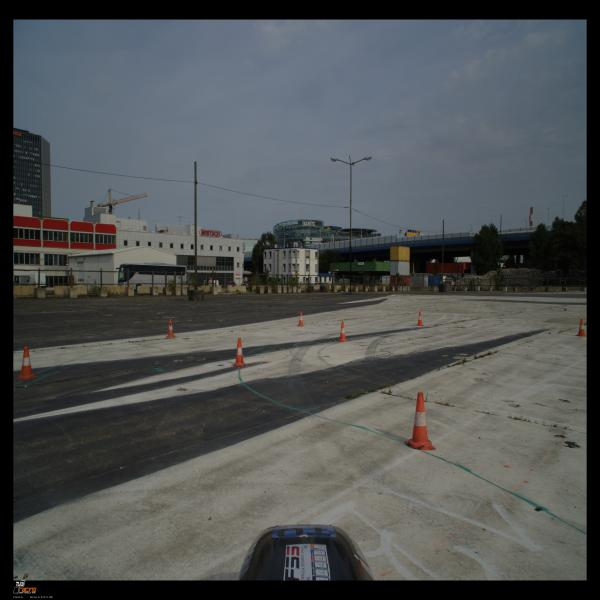orange_cone: (405, 392, 436, 450), (15, 346, 38, 380), (231, 338, 248, 367), (337, 321, 348, 342), (575, 318, 586, 337), (166, 319, 176, 338), (416, 311, 424, 326), (297, 311, 304, 327)
